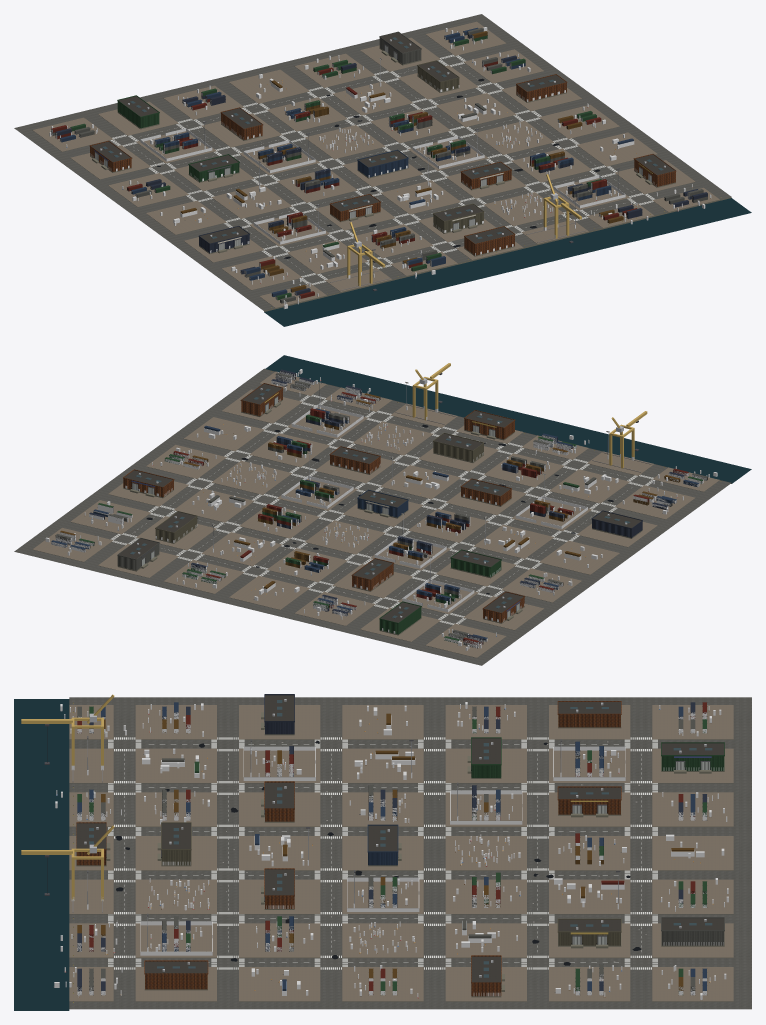
File: map_industrial.glb
The picture shows the model from 3 angles, top to bottom: view 1: azimuth 30°, elevation 25°; view 2: azimuth 150°, elevation 25°; view 3: azimuth 270°, elevation 25°; orthographic projection. The views are drawn at different scales.
Visible parts, largest first — view 1: Ground_yard, Ground_road, Warehouses, Ground_water, Ground_markings, Cranes, Ground_quay, Vehicles; view 2: Ground_yard, Ground_road, Warehouses, Ground_water, Ground_markings, Cranes, Vehicles; view 3: Ground_yard, Ground_road, Warehouses, Ground_water, Ground_markings, Cranes, Vehicles.
Boxes of the visible parts, left/top/right/bottom form: Ground_yard: left=32, top=21, right=719, bottom=307; Ground_road: left=14, top=14, right=731, bottom=310; Warehouses: left=89, top=31, right=676, bottom=256; Ground_water: left=264, top=198, right=751, bottom=326; Ground_markings: left=110, top=54, right=654, bottom=284; Cranes: left=330, top=174, right=586, bottom=291; Ground_quay: left=264, top=197, right=731, bottom=311; Vehicles: left=152, top=80, right=633, bottom=307; Ground_yard: left=32, top=371, right=719, bottom=657; Ground_road: left=14, top=369, right=731, bottom=665; Warehouses: left=117, top=383, right=642, bottom=635; Ground_water: left=265, top=355, right=751, bottom=483; Ground_markings: left=111, top=394, right=655, bottom=624; Cranes: left=395, top=363, right=652, bottom=472; Vehicles: left=204, top=425, right=662, bottom=645; Ground_yard: left=69, top=705, right=733, bottom=1001; Ground_road: left=69, top=697, right=751, bottom=1009; Warehouses: left=76, top=694, right=724, bottom=997; Ground_water: left=14, top=699, right=69, bottom=1010; Ground_markings: left=108, top=737, right=657, bottom=969; Cranes: left=21, top=694, right=114, bottom=912; Vehicles: left=53, top=713, right=694, bottom=996.
Size of the model in its own units: 400 by 43.45 by 400.
53 materials, 13 textured.
